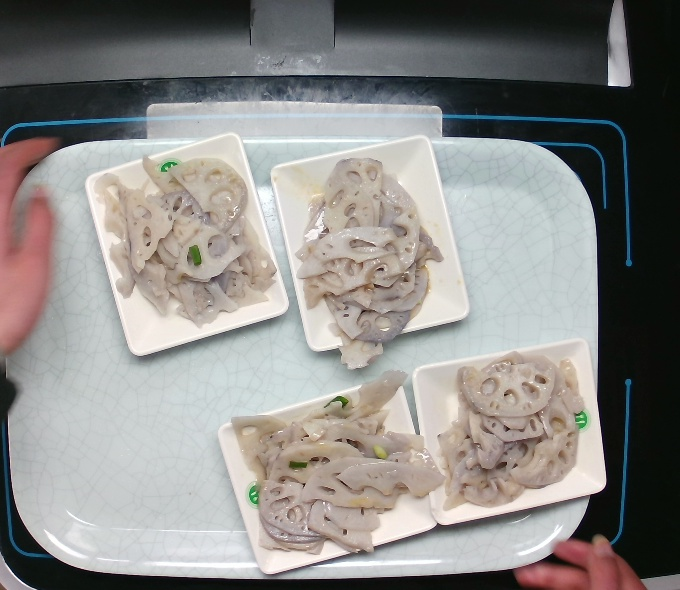wcq-OuPian: (225, 366, 448, 560), (90, 147, 279, 330), (293, 154, 447, 372), (436, 347, 585, 511)
